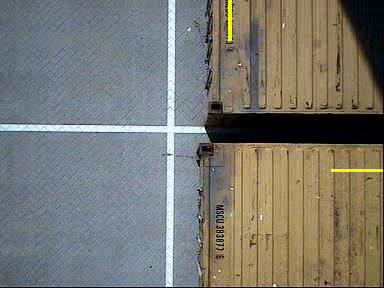groundmarker_2: (66, 44, 154, 105)
